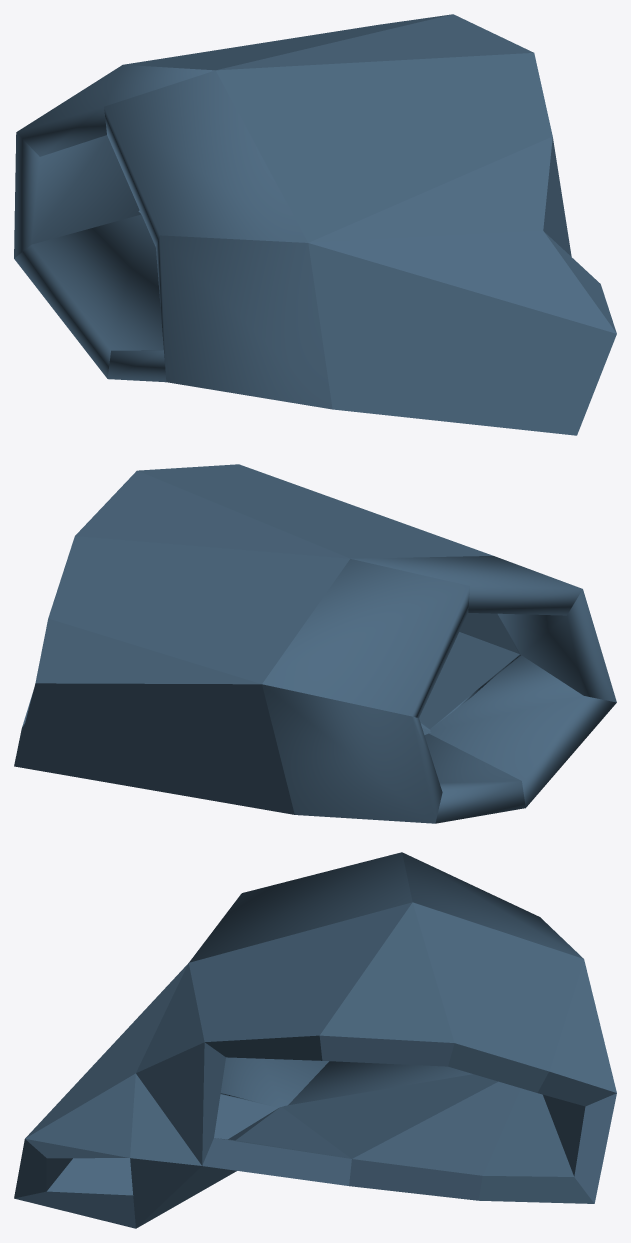
The model's file is Chr_HandLeft_Female_08_Drop.fbx.
3 views of the same model, one above another, from view 1: azimuth 30°, elevation 25°; view 2: azimuth 150°, elevation 25°; view 3: azimuth 270°, elevation 25° (orthographic). The views are drawn at different scales.
Parts seen in each view (by area): view 1: Chr_HandLeft_Female_08_Static; view 2: Chr_HandLeft_Female_08_Static; view 3: Chr_HandLeft_Female_08_Static.
Boxes of the visible parts, x1,y1,x2,y2 form: Chr_HandLeft_Female_08_Static: [14, 14, 616, 435]; Chr_HandLeft_Female_08_Static: [14, 464, 616, 823]; Chr_HandLeft_Female_08_Static: [14, 852, 616, 1228].
Bounding box in the file's own units: 12.14 × 7.05 × 15.24.
